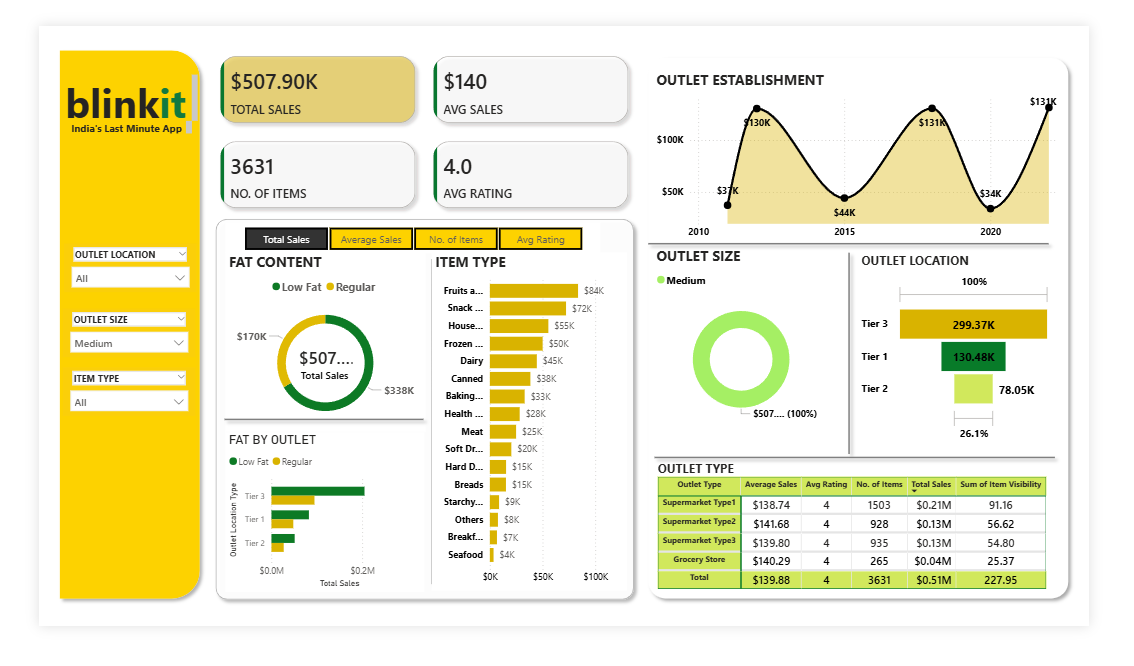

What the dashboard file says about the page in this screenshot:
{"tool":"powerbi","page":{"name":"Page 1","canvas":[1400,800],"ordinal":0},"visuals":[{"type":"shape","box":[18.8,24.1,205.1,749.3],"z":0},{"type":"textbox","box":[29.5,59.3,186.3,76.4],"z":1000},{"type":"textbox","box":[37.5,122.4,170.2,26.8],"z":2000},{"type":"cardVisual","fields":{"Data":["Blinkit Grocery Data.Total Sales","Blinkit Grocery Data.Average Sales","Blinkit Grocery Data.No. of Items","Blinkit Grocery Data.Avg Rating"]},"box":[224.3,23.6,578.4,237.6],"z":3000},{"type":"shape","box":[227.2,247.9,575.5,525.3],"z":4000},{"type":"slicer","fields":{"Values":["Metrics.Metrics"]},"box":[247.9,261.2,500.2,41.3],"z":5000},{"type":"donutChart","title":"FAT CONTENT","fields":{"Y":["Blinkit Grocery Data.Total Sales"],"Category":["Blinkit Grocery Data.Item Fat Content"]},"box":[247.9,302.5,267.1,239],"z":6000},{"type":"cardVisual","fields":{"Data":["Blinkit Grocery Data.Total Sales"]},"box":[337.9,422,85.6,56.1],"z":7000},{"type":"clusteredBarChart","title":"FAT BY OUTLET","fields":{"Y":["Blinkit Grocery Data.Total Sales"],"Category":["Blinkit Grocery Data.Outlet Location Type"],"Series":["Blinkit Grocery Data.Item Fat Content"]},"box":[247.9,541.5,265.6,212.5],"z":8000},{"type":"shape","box":[239,509.1,283.3,32.5],"z":9000},{"type":"shape","box":[515,302.5,13.3,451.5],"z":10000},{"type":"barChart","title":"ITEM TYPE","fields":{"Y":["Blinkit Grocery Data.Total Sales"],"Category":["Blinkit Grocery Data.Item Type"]},"box":[523.8,302.5,261.2,451.5],"z":11000},{"type":"shape","box":[802.7,33.9,578.4,739.3],"z":12000},{"type":"lineChart","title":"OUTLET ESTABLISHMENT","fields":{"Category":["Blinkit Grocery Data.Outlet Establishment Year"],"Y":["Blinkit Grocery Data.Total Sales"]},"box":[818.9,59,547.4,234.6],"z":13000},{"type":"donutChart","title":"OUTLET SIZE","fields":{"Y":["Blinkit Grocery Data.Total Sales"],"Category":["Blinkit Grocery Data.Outlet Size"]},"box":[818.9,293.6,236.1,247.9],"z":14000},{"type":"funnel","title":"OUTLET LOCATION","fields":{"Y":["Sum(Blinkit Grocery Data.Sales)"],"Category":["Blinkit Grocery Data.Outlet Location Type"]},"box":[1091.9,302.5,262.6,256.7],"z":15000},{"type":"pivotTable","title":"OUTLET TYPE","fields":{"Rows":["Blinkit Grocery Data.Outlet Type"],"Values":["Blinkit Grocery Data.Average Sales","Blinkit Grocery Data.Avg Rating","Blinkit Grocery Data.No. of Items","Blinkit Grocery Data.Total Sales","Sum(Blinkit Grocery Data.Item Visibility)"]},"box":[820.4,578.4,547.4,194.8],"z":16000},{"type":"shape","box":[1055,293.6,50.2,286.3],"z":17000},{"type":"shape","box":[802.7,267.1,551.9,47.2],"z":18000},{"type":"shape","box":[811.6,551.9,551.9,47.2],"z":19000},{"type":"slicer","fields":{"Values":["Blinkit Grocery Data.Outlet Location Type"]},"box":[33.9,290.7,177.1,64.9],"z":20000},{"type":"slicer","fields":{"Values":["Blinkit Grocery Data.Outlet Size"]},"box":[32.5,376.3,177.1,64.9],"z":21000},{"type":"slicer","fields":{"Values":["Blinkit Grocery Data.Item Type"]},"box":[32.5,454.5,177.1,64.9],"z":22000}]}

Visuals, with their boxes in screenshot pixels (x1, y1, x2, y2), scaled from the page's 1400x800 canvas onto the 1134x666 screenshot:
shape: 15/20/181/644
textbox: 24/49/175/113
textbox: 30/102/168/124
cardVisual - Blinkit Grocery Data.Total Sales x Blinkit Grocery Data.Average Sales: 182/20/650/217
shape: 184/206/650/644
slicer - Metrics.Metrics: 201/217/606/252
"FAT CONTENT" donutChart: 201/252/417/451
cardVisual - Blinkit Grocery Data.Total Sales: 274/351/343/398
"FAT BY OUTLET" clusteredBarChart: 201/451/416/628
shape: 194/424/423/451
shape: 417/252/428/628
"ITEM TYPE" barChart: 424/252/636/628
shape: 650/28/1119/644
"OUTLET ESTABLISHMENT" lineChart: 663/49/1107/244
"OUTLET SIZE" donutChart: 663/244/855/451
"OUTLET LOCATION" funnel: 884/252/1097/466
"OUTLET TYPE" pivotTable: 665/482/1108/644
shape: 855/244/895/483
shape: 650/222/1097/262
shape: 657/459/1104/499
slicer - Blinkit Grocery Data.Outlet Location Type: 27/242/171/296
slicer - Blinkit Grocery Data.Outlet Size: 26/313/170/367
slicer - Blinkit Grocery Data.Item Type: 26/378/170/432
